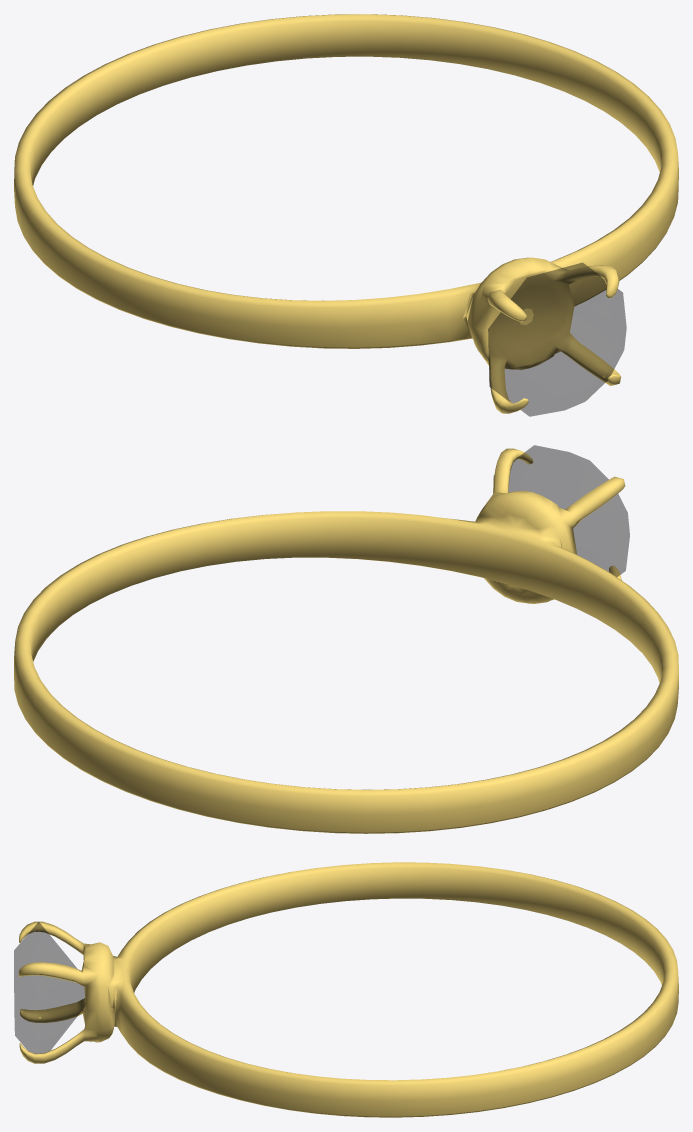
3 views of the same model, one above another, from view 1: azimuth 30°, elevation 25°; view 2: azimuth 150°, elevation 25°; view 3: azimuth 270°, elevation 25° (orthographic). The views are drawn at different scales.
Bounding box in the file's own units: 0.9656 × 0.2283 × 1.14.
